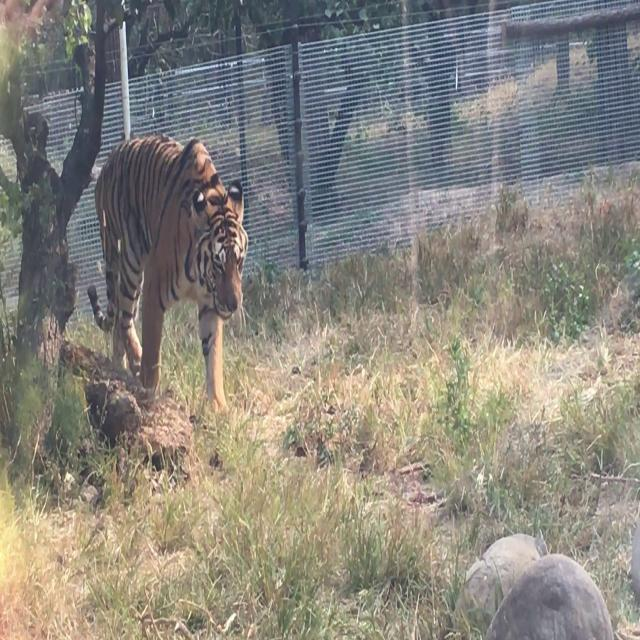Tiger: (79, 94, 270, 438)
